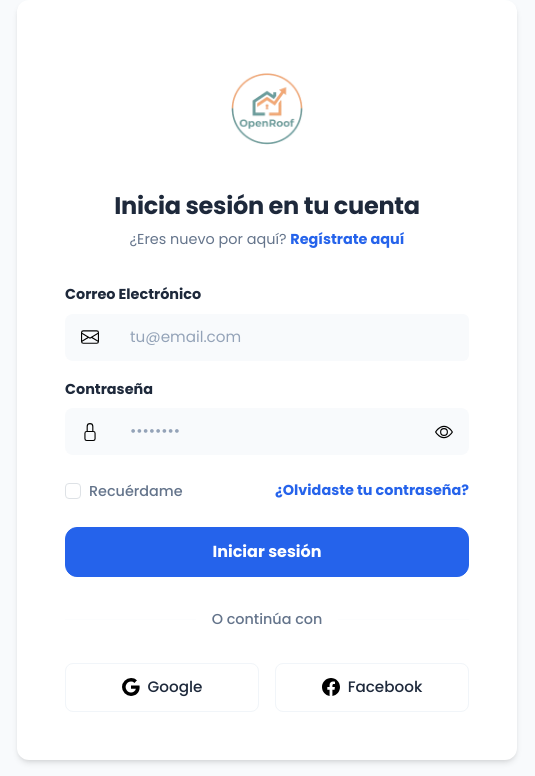
Scenario: Login Form Validation Flow › debe mostrar errores de validación si se envía el formulario vacío
// Intentar hacer submit directo sin completar campos
Click the submit button at (267, 552), box [65,527,469,577]
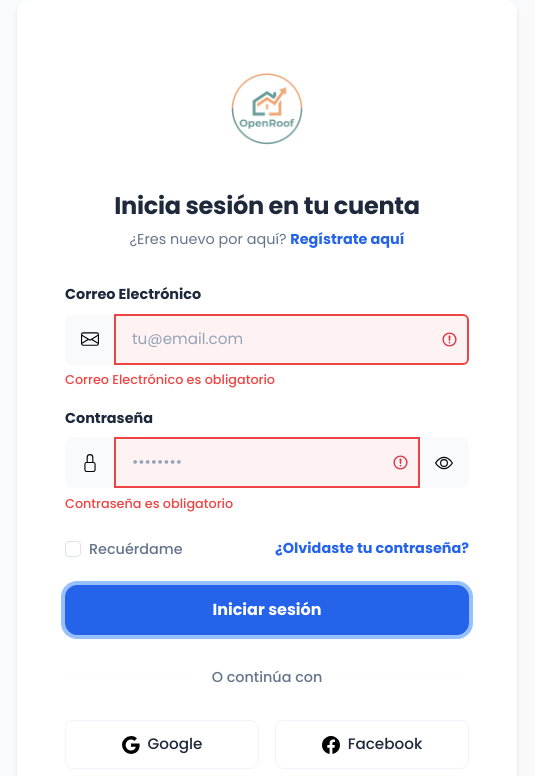
Check: the number of elements with class "field-error-msg" is 2, box [65,371,275,388]; [65,495,233,512]
